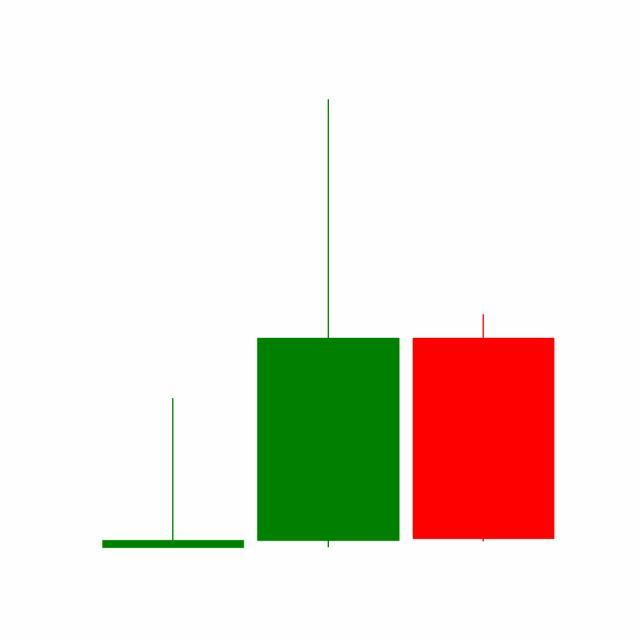Marubozu: (406, 312, 562, 545)
